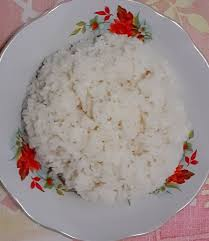Nasi putih: (20, 35, 185, 201)
